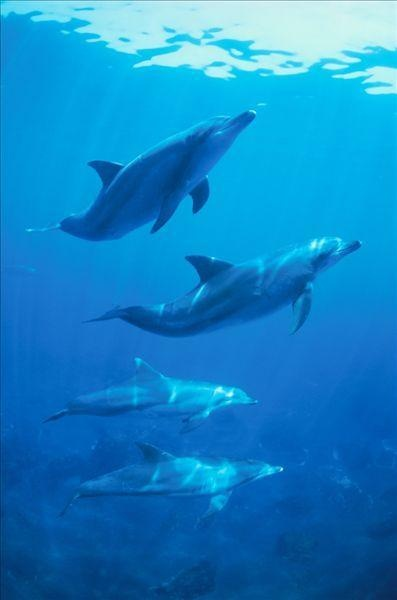fish: (26, 109, 260, 250), (80, 232, 363, 342), (59, 434, 282, 513), (38, 357, 259, 427)
